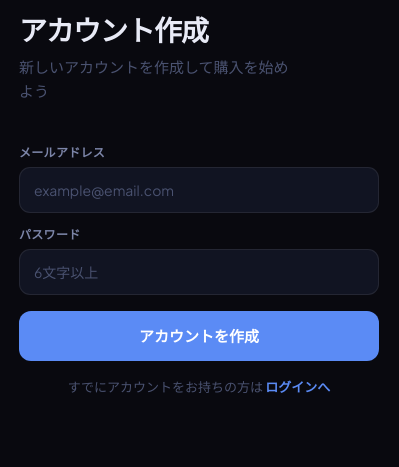
it: AuthView › shows an error message when registration fails
In the field with placeholder "example@email.com": (199, 190) [19,167,379,213], type "dup@example.com"
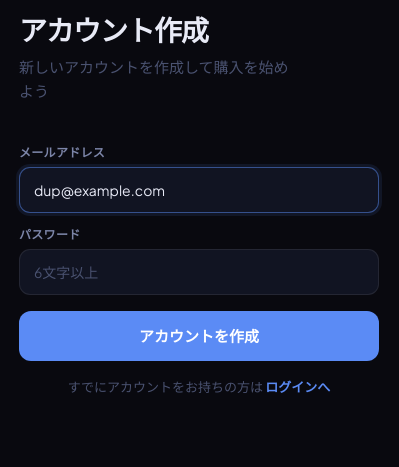
In the password field with placeholder "6文字以上": (199, 272) [19,249,379,295], type "password123"
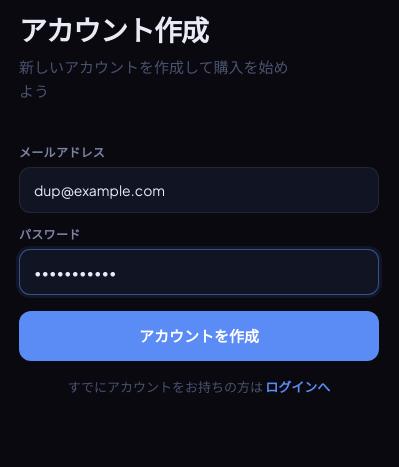
Click the button "アカウントを作成": (199, 336) [19,311,379,361]
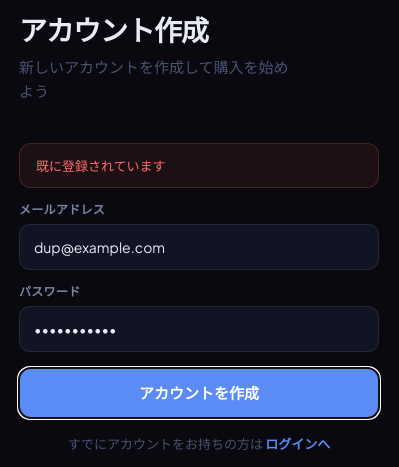
Now the text "既に登録されています" is shown, box [19,143,379,188]
